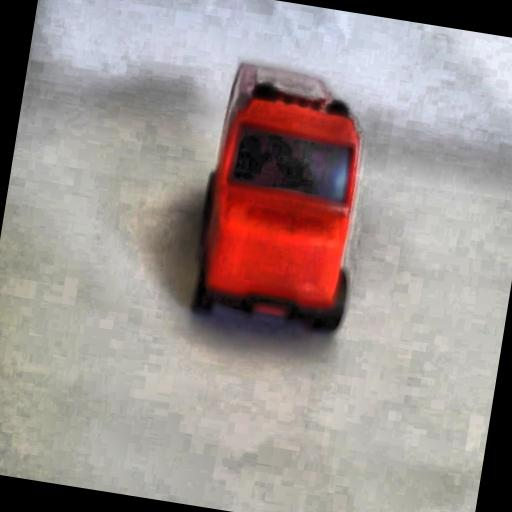fire_truck: (185, 64, 378, 358)
